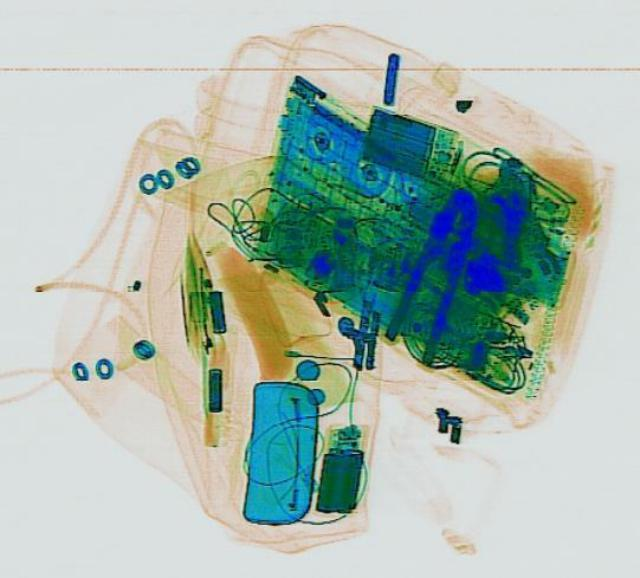Pliers: (374, 178, 491, 362)
